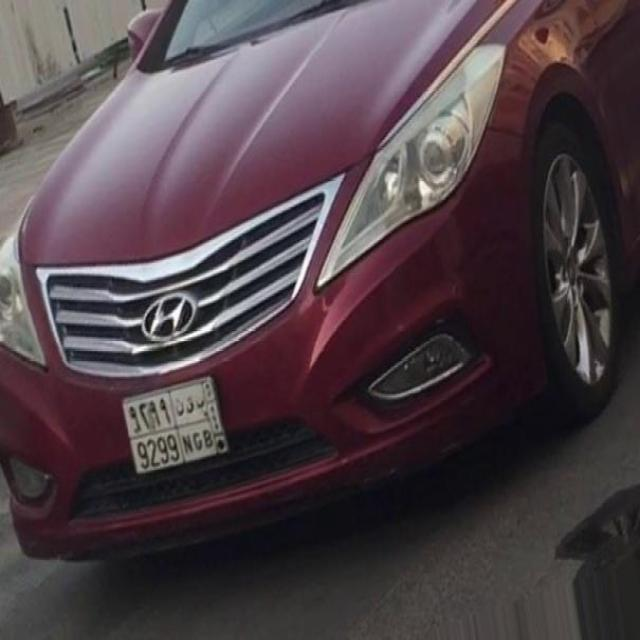Car-plate: (106, 360, 242, 493)
